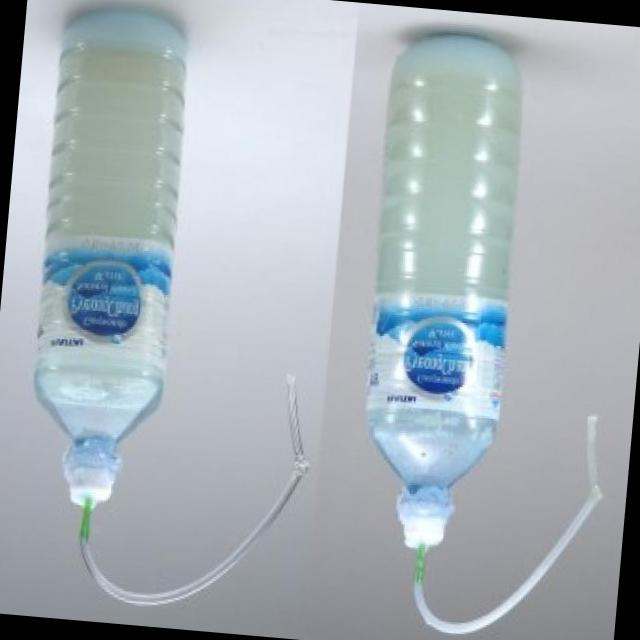plastic_bottle: (348, 31, 533, 554), (19, 2, 196, 515)
